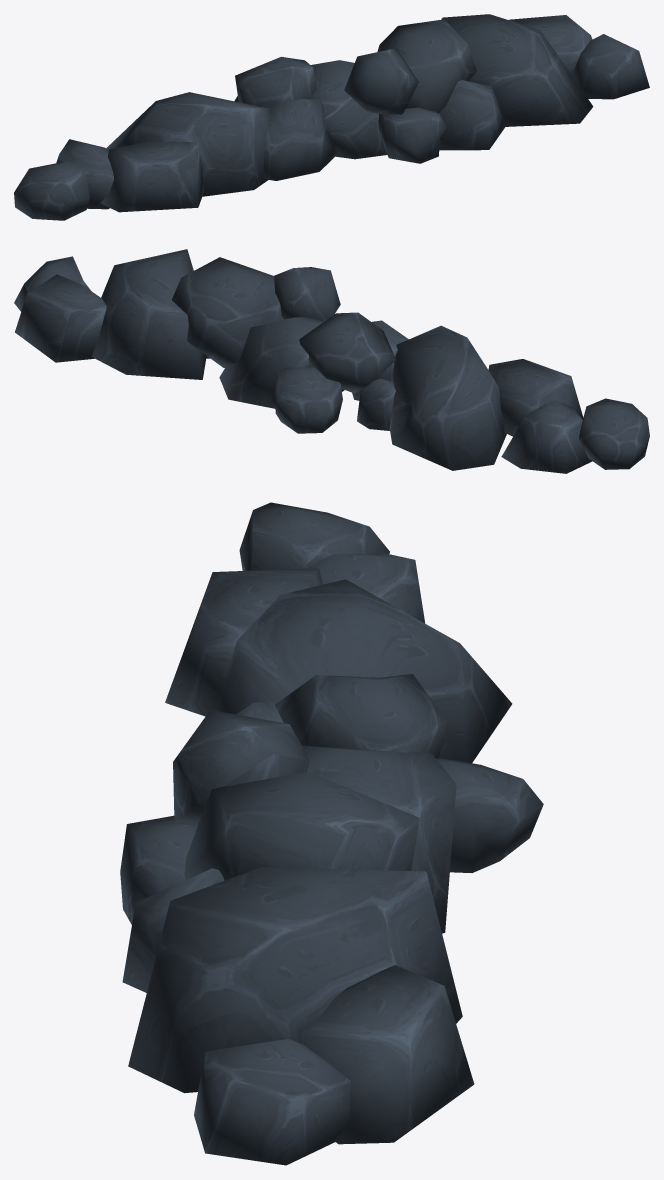
Rendered from SM_PROP_stonepile_battle_01.fbx.
3 views of the same model, one above another, from view 1: azimuth 30°, elevation 25°; view 2: azimuth 150°, elevation 25°; view 3: azimuth 270°, elevation 25° (orthographic). The views are drawn at different scales.
Visible parts, largest first — view 1: SM_PROP_stonepile_battle_01; view 2: SM_PROP_stonepile_battle_01; view 3: SM_PROP_stonepile_battle_01.
Part boxes in pixels (box(x1,y1,x2,y2)): SM_PROP_stonepile_battle_01: box(14, 14, 649, 220); SM_PROP_stonepile_battle_01: box(14, 249, 649, 473); SM_PROP_stonepile_battle_01: box(120, 502, 543, 1165).
Bounding box in the file's own units: 393 × 59.33 × 117.
